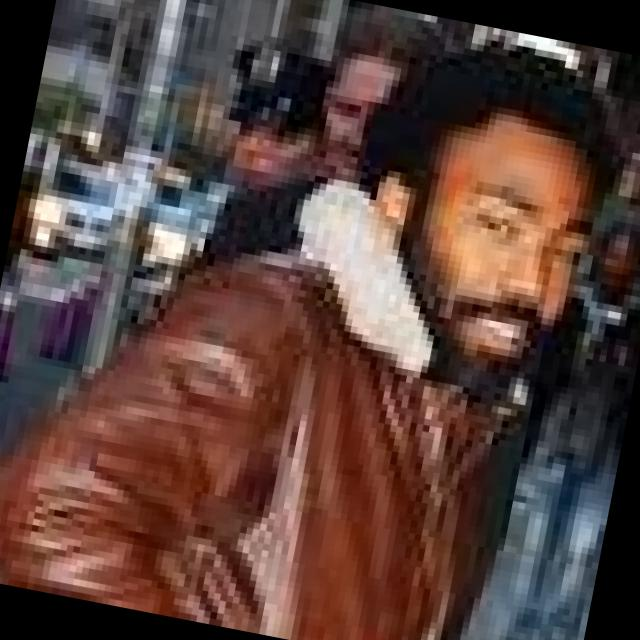Jacket: (0, 254, 560, 640)
